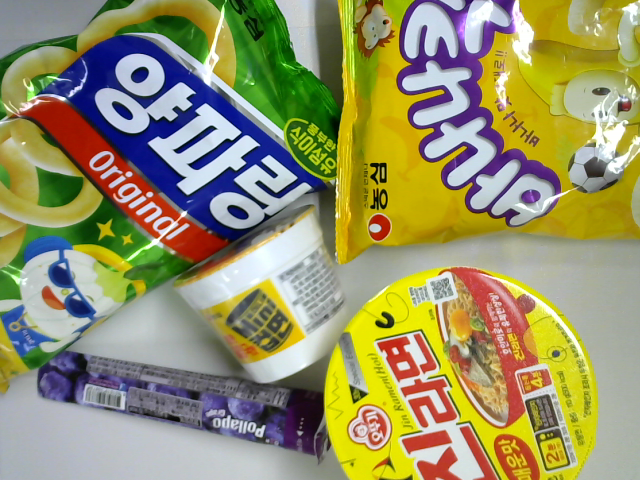Banana_Kick: (336, 1, 640, 264)
Hejangmini: (167, 205, 354, 388)
Jinlamyeon_Hot_Taste_Large_Cup: (324, 257, 597, 480)
Oninon_Ring: (1, 1, 341, 401)
Polapo_Grape: (37, 347, 336, 461)
